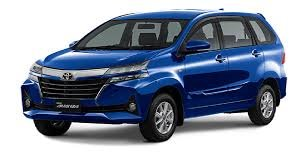mobil: (19, 10, 292, 148)
